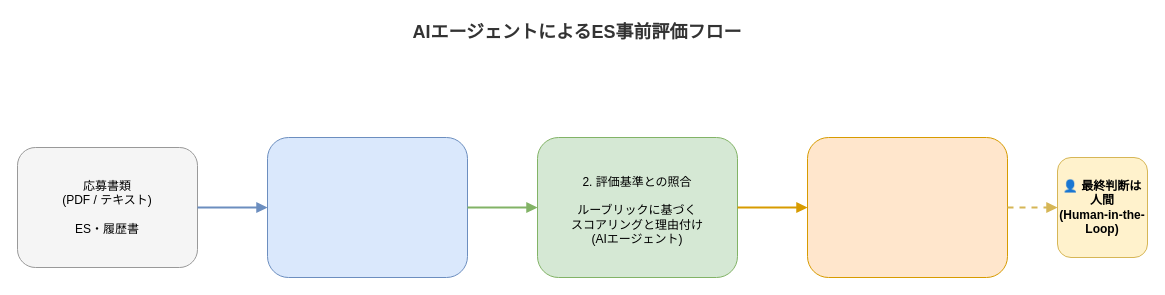
This 1165x295 diagram has some shape labels left out. The shapes that lost their labels are listed below. From the top down, each one's centre as x and y in pixels, then its label:
the point at 367,207: 1. 構造化・抽出 • 職歴 / スキル • 資格 / 語学力 • アピールポイント → JSON へ整理
the point at 907,207: 3. 結果の出力 • 強み / 懸念点の要約 • 推奨度スコア • 面接での深掘り質問案
